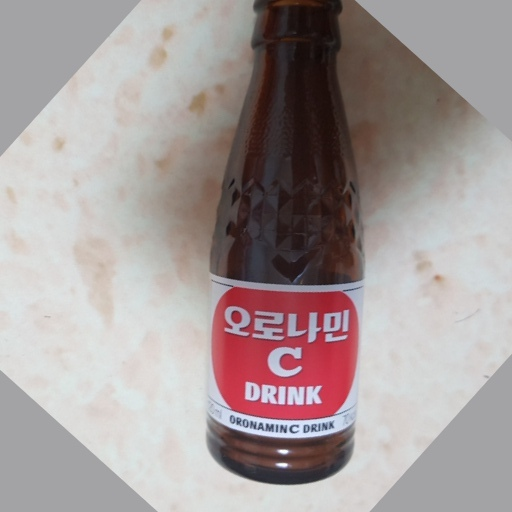Glass_3: (206, 2, 367, 485)
